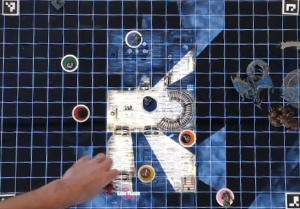blue: (139, 95, 157, 113)
green: (59, 53, 78, 74)
orange: (177, 126, 198, 146)
pink: (213, 186, 237, 207)
red: (69, 103, 89, 121)
violet: (122, 29, 145, 51)
yellow: (134, 162, 156, 183)
